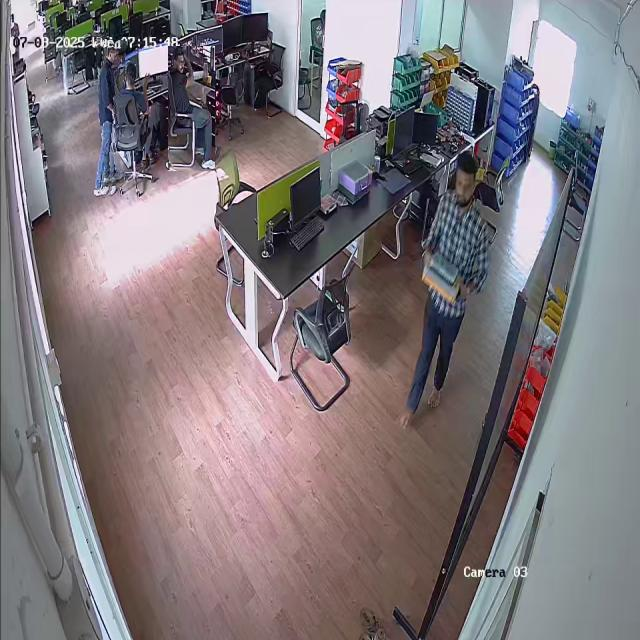person: (404, 146, 493, 426), (85, 38, 123, 198), (168, 46, 215, 171)
